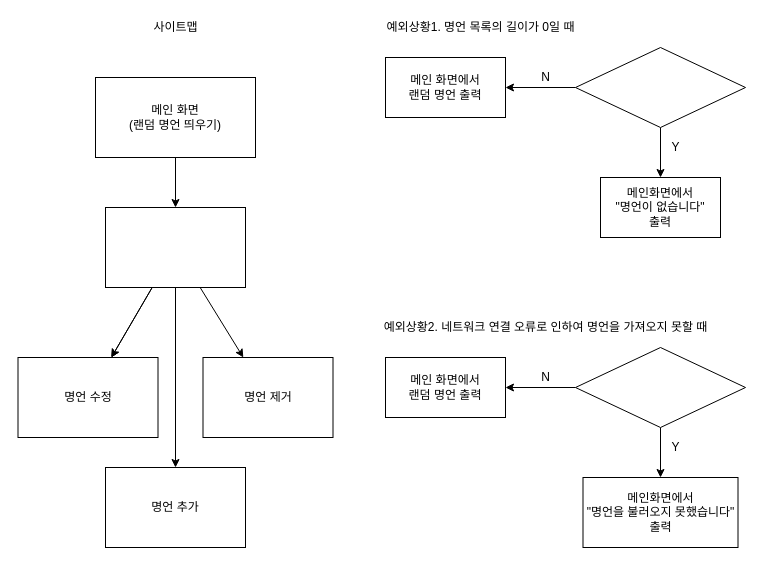
The diagram is 763 pixels wide and 565 high, and some of its shapes have lost their labels. Each missing label, with the centre of its shape:
"네트워크 오류로 명언을 가져오지 못함" belongs at point (660, 387).
"명언 목록" belongs at point (175, 247).
"명언 목록의 길이가 0일때" belongs at point (660, 87).
